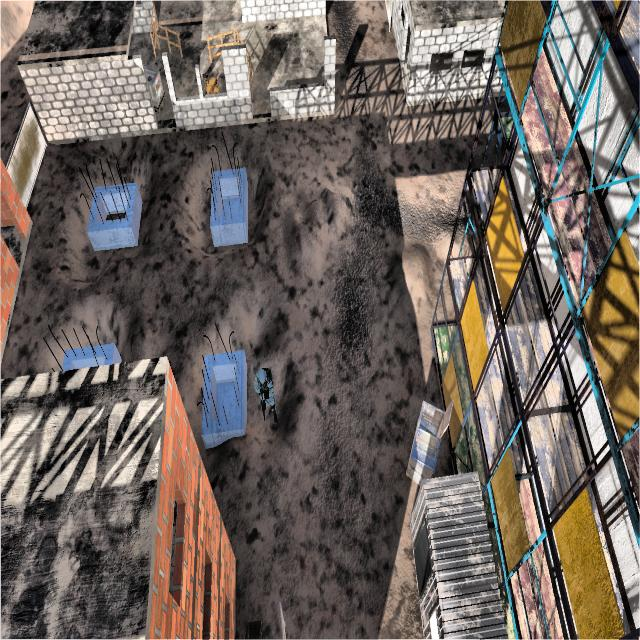bad: (250, 356, 284, 428)
